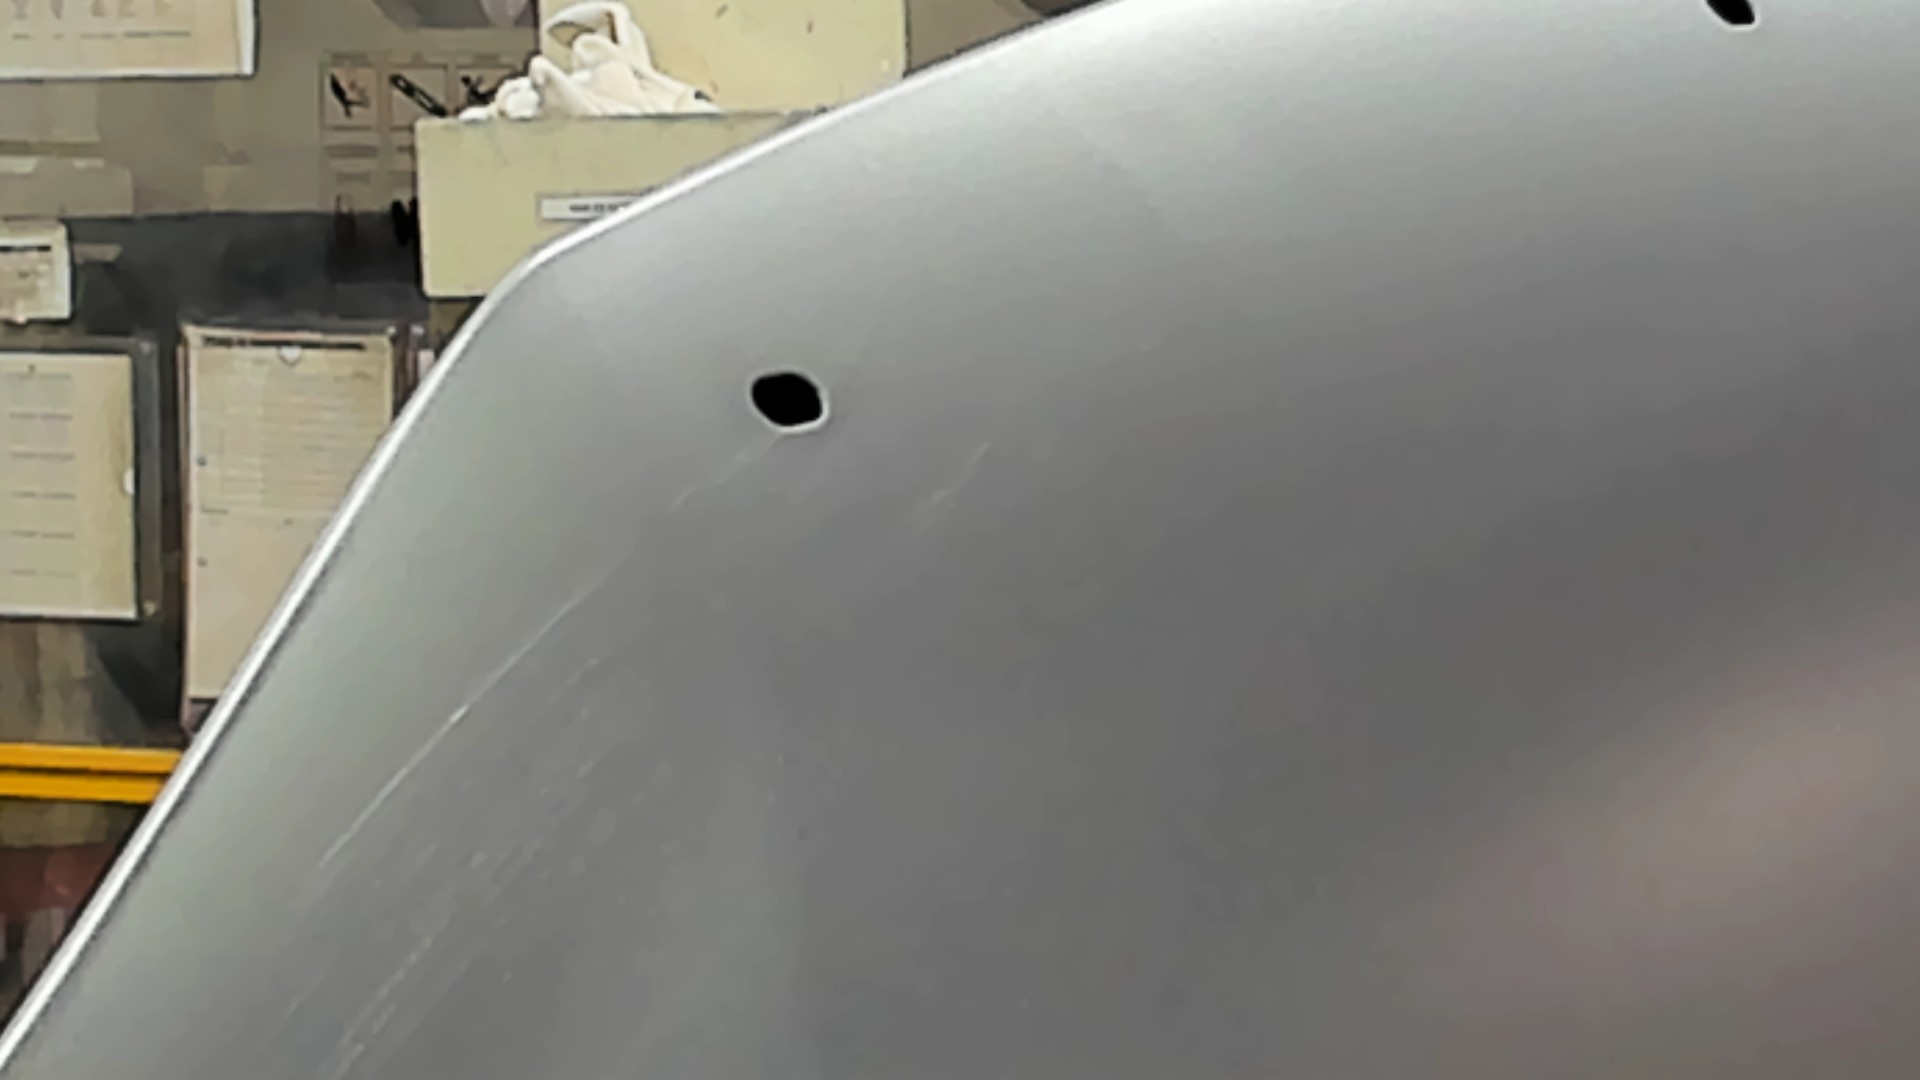amorfo: (738, 369, 833, 433), (1701, 1, 1760, 42)
